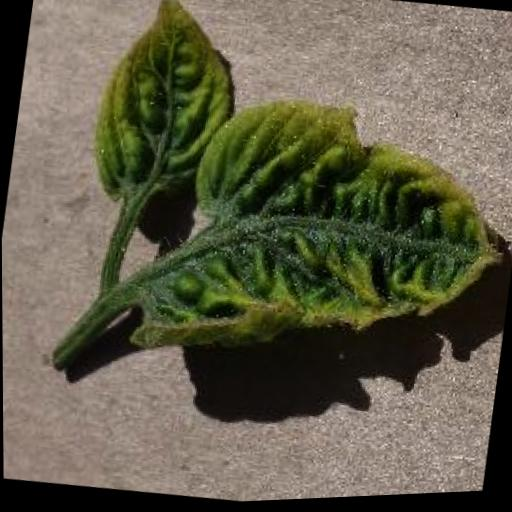Yellow Leaf Curl Virus: (129, 71, 512, 399), (87, 0, 250, 218)
